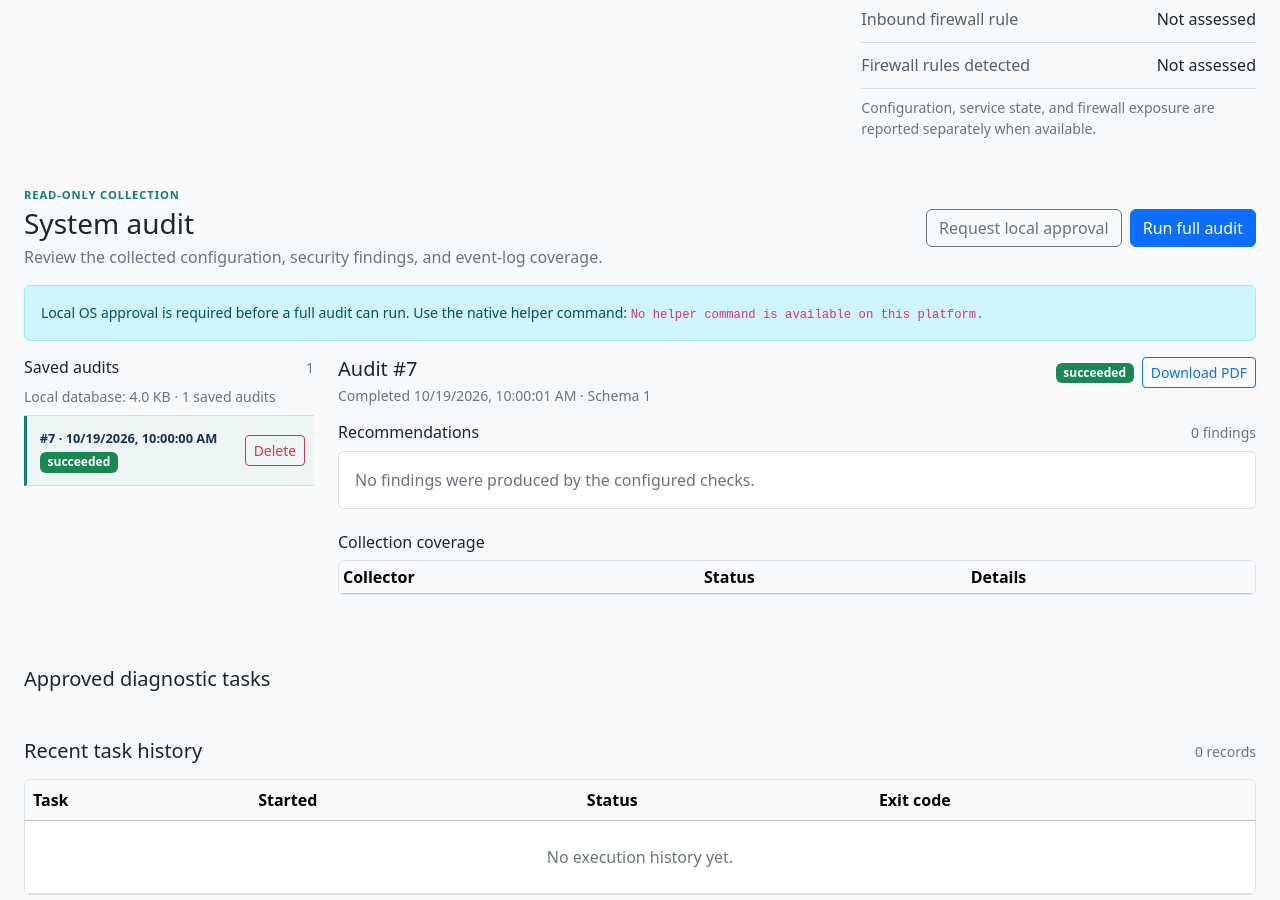
Test: audit dashboard › deletes an audit and refreshes the saved list
The width and height of the screenshot is (1280, 900).
(page scrolled)
Click the button with aria-label "Delete audit 7": (275, 451) [245, 435, 305, 466]
(page scrolled)
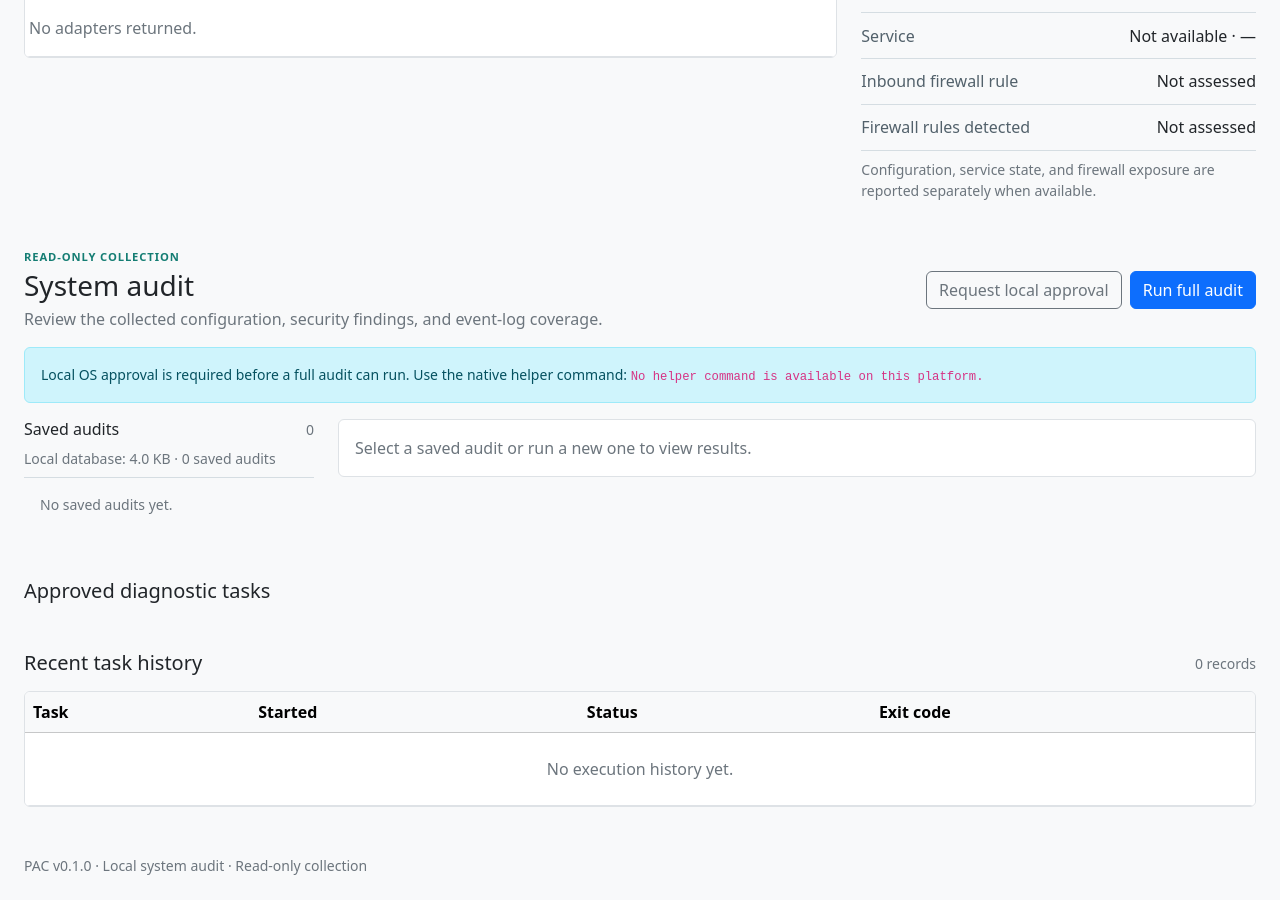
Now the text "No saved audits yet." is shown, box [40, 495, 172, 514]
Now the text "0 saved audits" is shown, box [24, 449, 276, 468]
